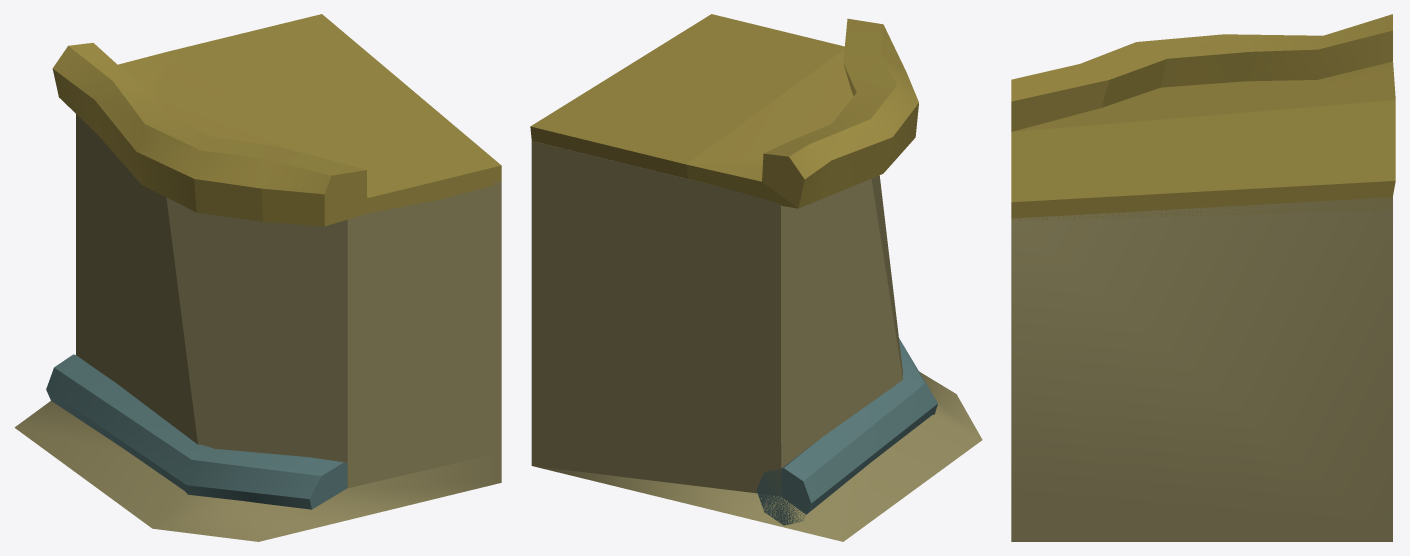
File: Int_18_InnerWall_Right_Diagonal.fbx
3 renders of one model, left to right at view 1: azimuth 30°, elevation 25°; view 2: azimuth 150°, elevation 25°; view 3: azimuth 270°, elevation 25°, orthographic. The views are drawn at different scales.
Parts seen in each view (by area): view 1: Int_18_InnerWall_Right_Diagonal1; view 2: Int_18_InnerWall_Right_Diagonal1; view 3: Int_18_InnerWall_Right_Diagonal1.
Part boxes in pixels (x1=…): Int_18_InnerWall_Right_Diagonal1: x1=14, y1=14, x2=501, y2=541; Int_18_InnerWall_Right_Diagonal1: x1=530, y1=14, x2=982, y2=541; Int_18_InnerWall_Right_Diagonal1: x1=1011, y1=14, x2=1395, y2=541.
Size of the model in its own units: 1 by 1.14 by 1.01.
